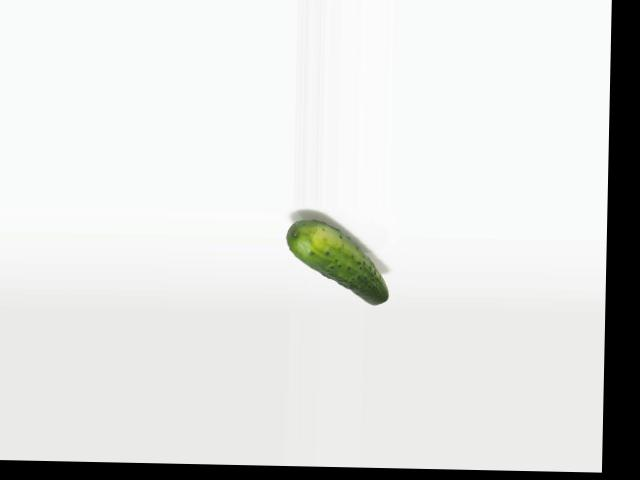cucumber: (286, 220, 390, 304)
